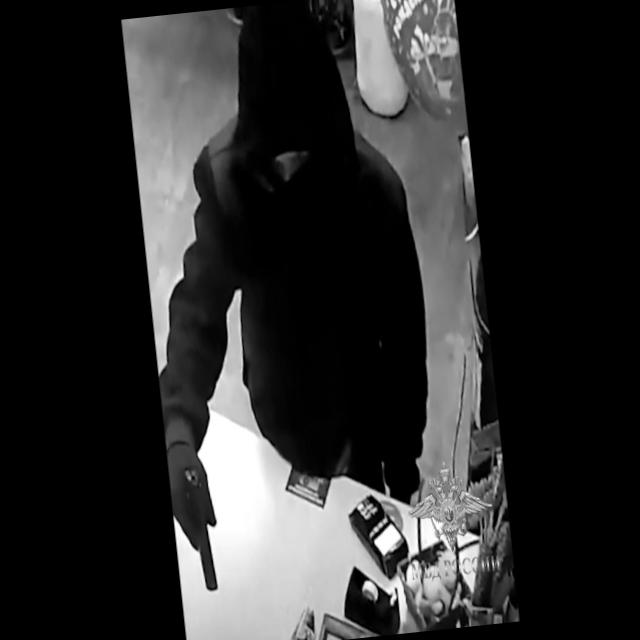gun: (163, 452, 224, 596)
person with a gun: (119, 1, 454, 594)
